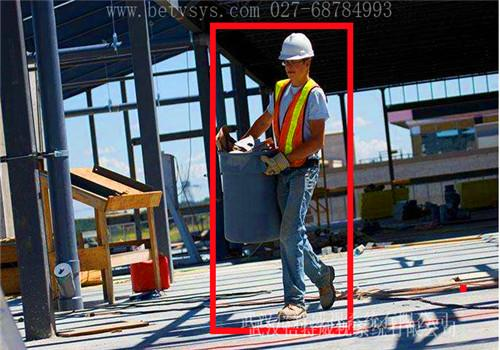helmet: (276, 32, 317, 63)
